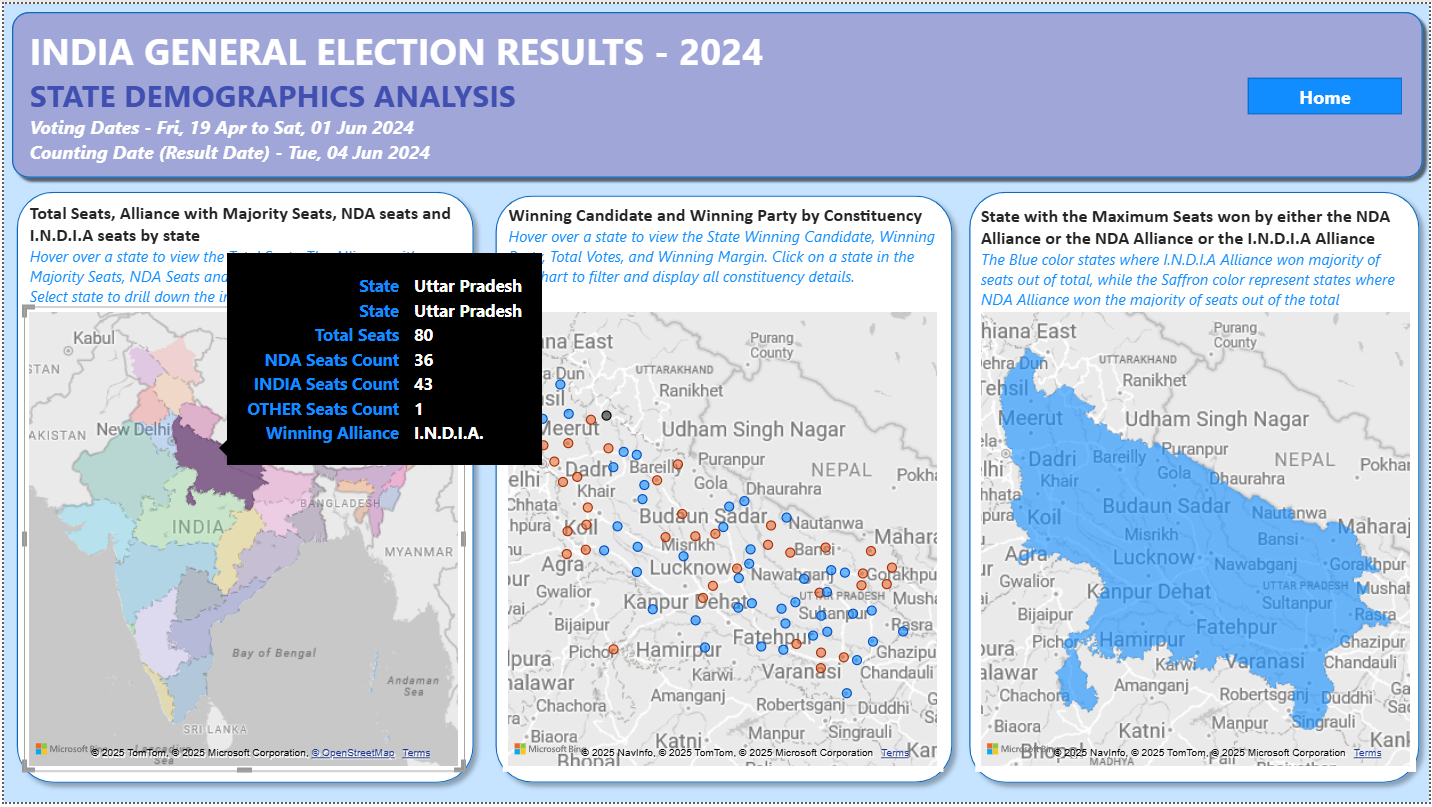

The dashboard page shown, as its layout file describes it:
{"tool":"powerbi","page":{"name":"STATE DEMOGRAPHICS ANALYSIS","canvas":[1250,700],"ordinal":2},"visuals":[{"type":"shape","box":[0,0,1250.7,159.3],"z":0},{"type":"textbox","box":[17.8,14.3,700.2,145],"z":1000},{"type":"shape","box":[2.4,155.7,418.5,536.2],"z":2000},{"type":"shape","box":[422,159.3,418.5,532.6],"z":3000},{"type":"shape","box":[837,155.7,412.5,536.2],"z":4000},{"type":"textbox","box":[17.8,168.8,386.4,120.1],"z":5000},{"type":"filledMap","fields":{"Category":["states.State"],"Series":["states.State"]},"box":[17.8,265.1,386.4,407.8],"z":6000},{"type":"textbox","box":[437.5,170,386.4,120.1],"z":7000},{"type":"map","fields":{"Category":["states.State","constituencywise_results.Constituency Name"],"Series":["constituencywise_results.Party Alliance"]},"box":[437.5,265.1,386.4,407.8],"z":8000},{"type":"textbox","box":[851.2,171.2,386.4,120.1],"z":9000},{"type":"filledMap","fields":{"Category":["states.State"],"Series":["states.Winning Alliance Plus"]},"box":[851.2,265.1,386.4,407.8],"z":10000},{"type":"shape","box":[1090.2,64.2,135.5,32.1],"z":11000}]}

Visuals, with their boxes in screenshot pixels (x1, y1, x2, y2), scaled from the page's 1250x700 canvas onto the 1432x807 screenshot:
shape: l=0, t=0, r=1431, b=184
textbox: l=20, t=16, r=823, b=184
shape: l=3, t=179, r=482, b=798
shape: l=483, t=184, r=963, b=798
shape: l=959, t=179, r=1431, b=798
textbox: l=20, t=195, r=463, b=333
filledMap - states.State x states.State: l=20, t=306, r=463, b=776
textbox: l=501, t=196, r=944, b=334
map - states.State x constituencywise_results.Constituency Name: l=501, t=306, r=944, b=776
textbox: l=975, t=197, r=1418, b=336
filledMap - states.State x states.Winning Alliance Plus: l=975, t=306, r=1418, b=776
shape: l=1249, t=74, r=1404, b=111
